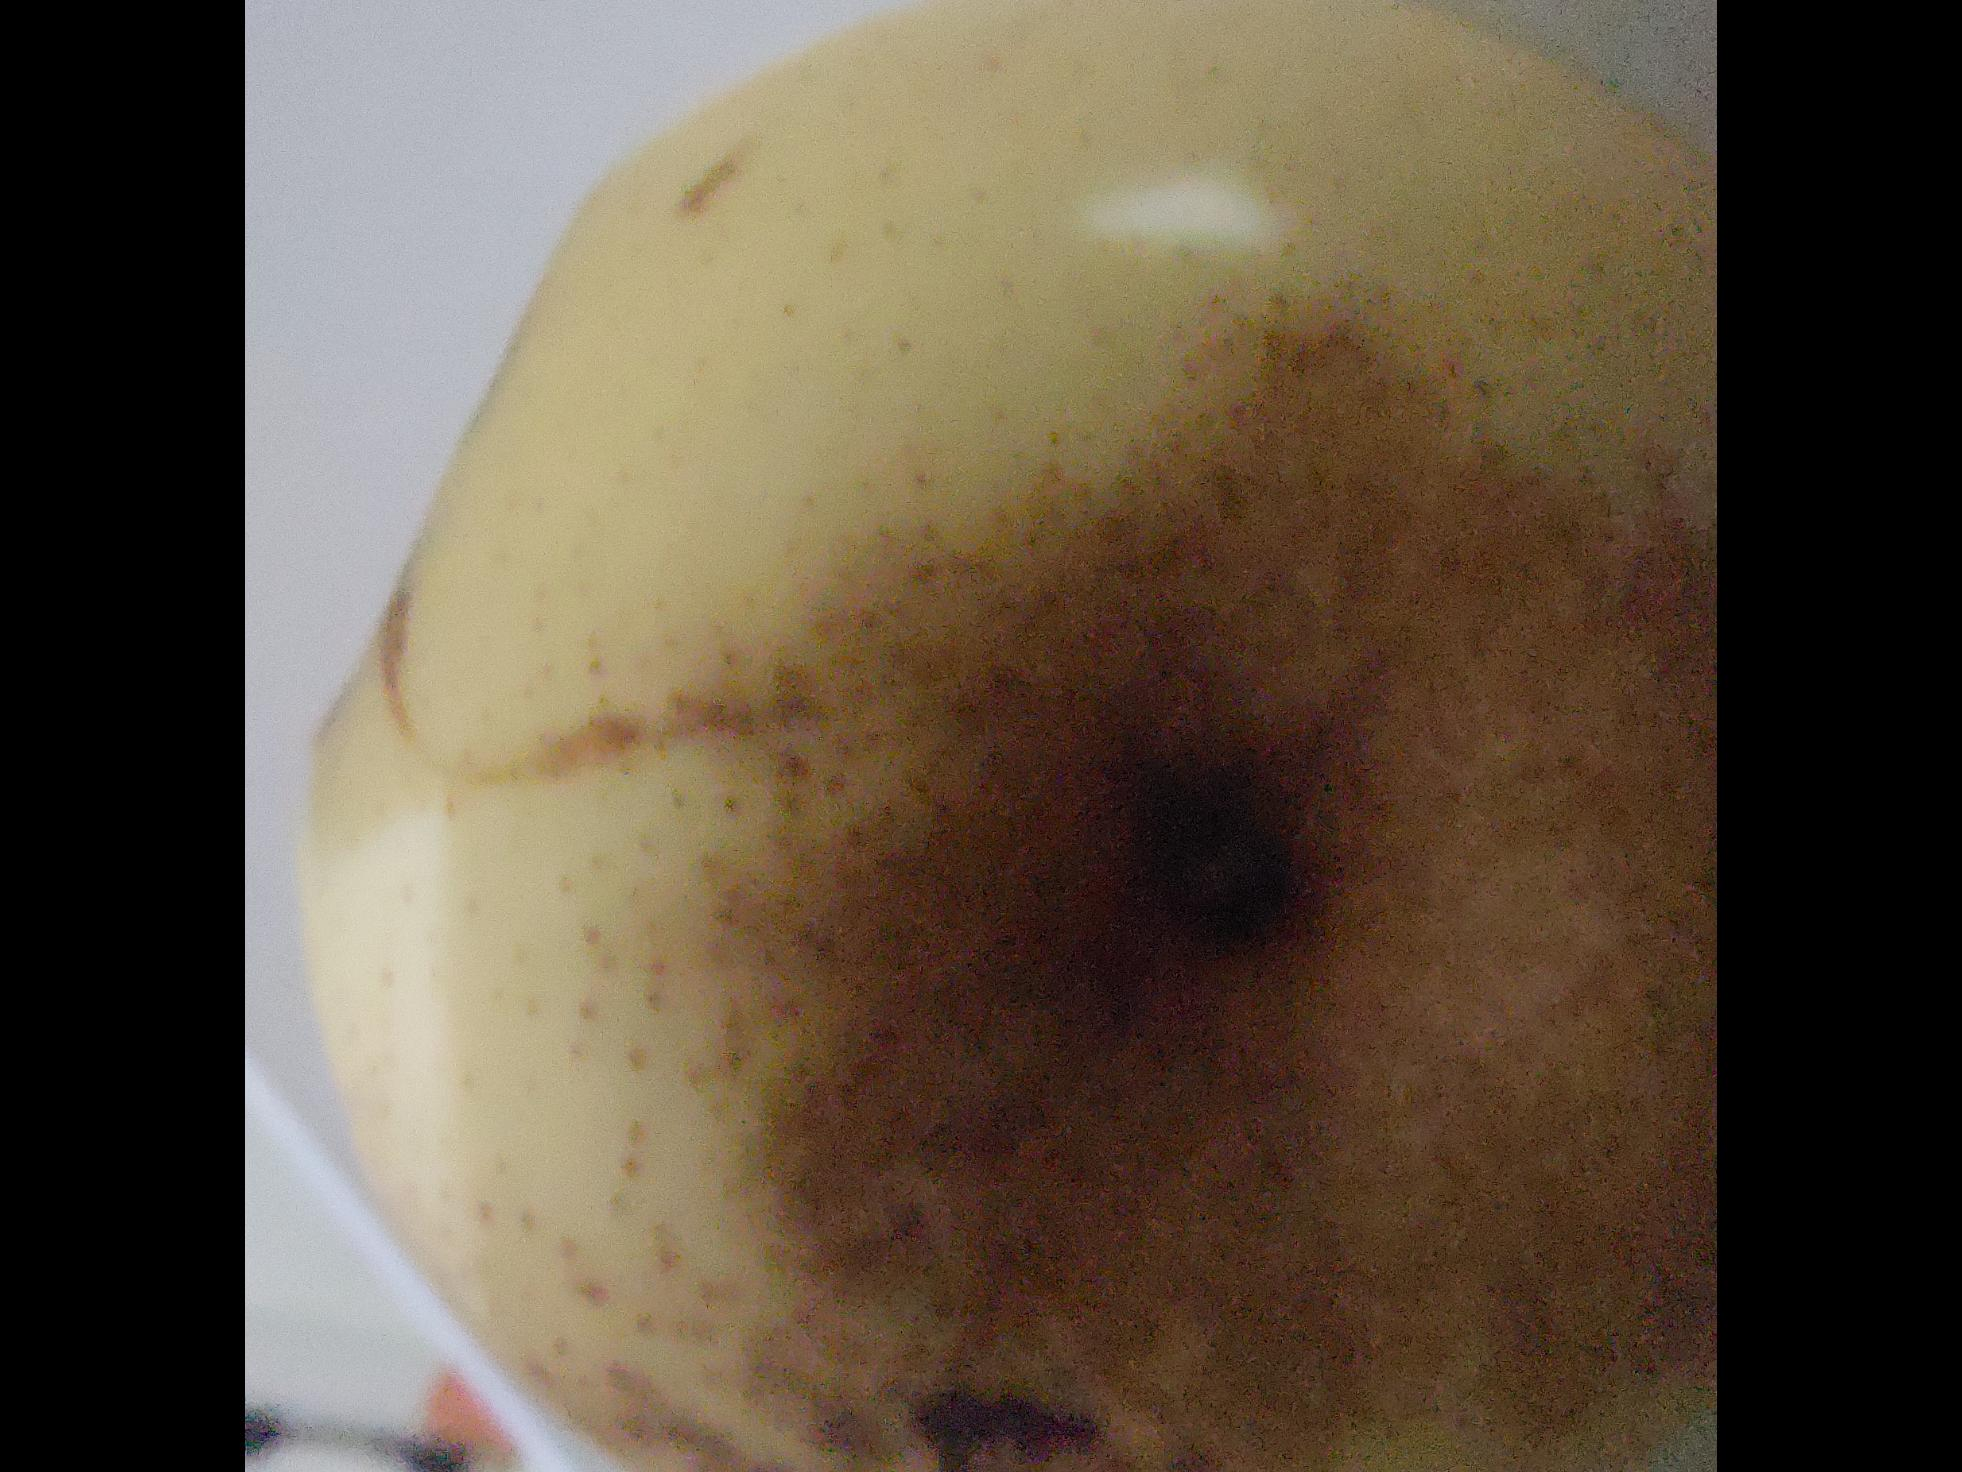Bad Pear: (301, 0, 1718, 1472)
